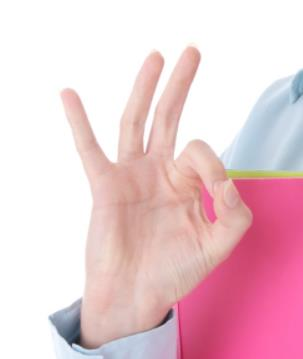left: (55, 41, 257, 315)
